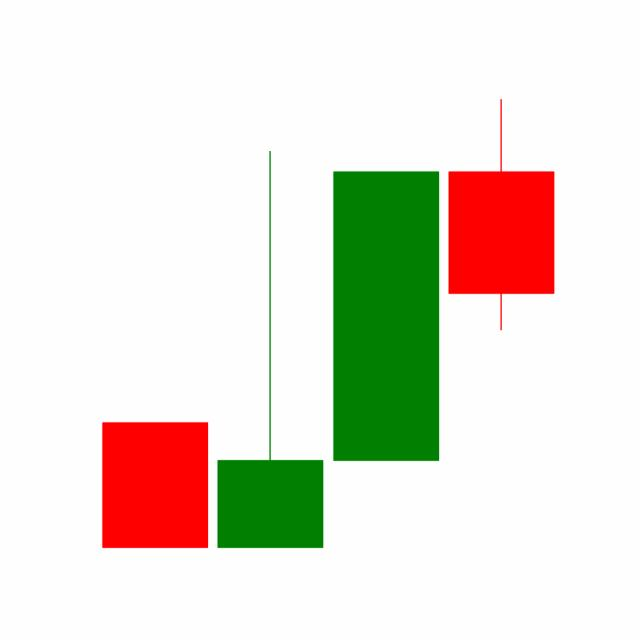Marubozu: (328, 168, 444, 463)
